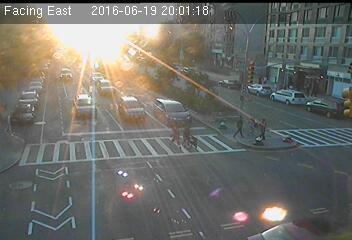neg: (24, 51, 56, 95), (29, 110, 61, 153), (80, 84, 110, 124), (117, 53, 135, 76), (58, 35, 73, 55)
pos: (175, 116, 199, 147), (226, 112, 246, 139), (159, 119, 178, 144), (256, 115, 272, 137)
